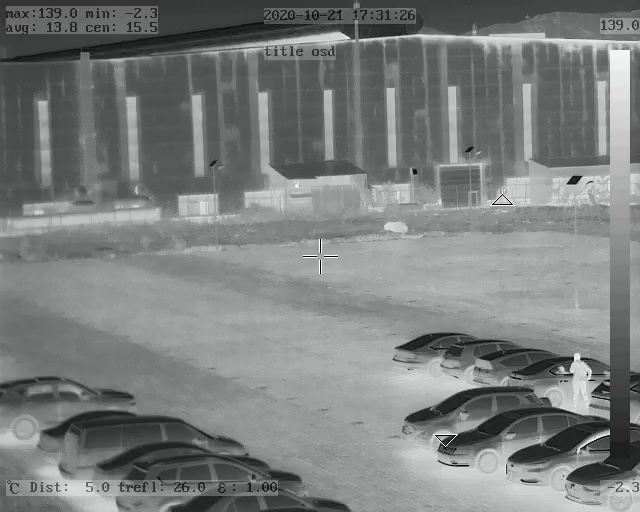person: (566, 352, 593, 406)
vehicle: (92, 443, 348, 512), (49, 410, 251, 475), (495, 419, 621, 487), (1, 375, 135, 438), (436, 407, 568, 468), (408, 385, 530, 440), (561, 445, 640, 511), (512, 354, 601, 394), (393, 326, 461, 372), (473, 342, 546, 384), (441, 336, 500, 377)
